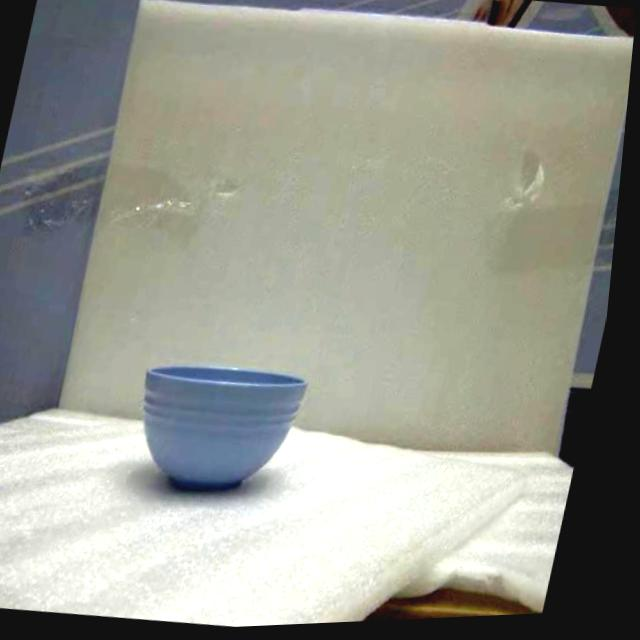Bowl: (143, 367, 306, 489)
